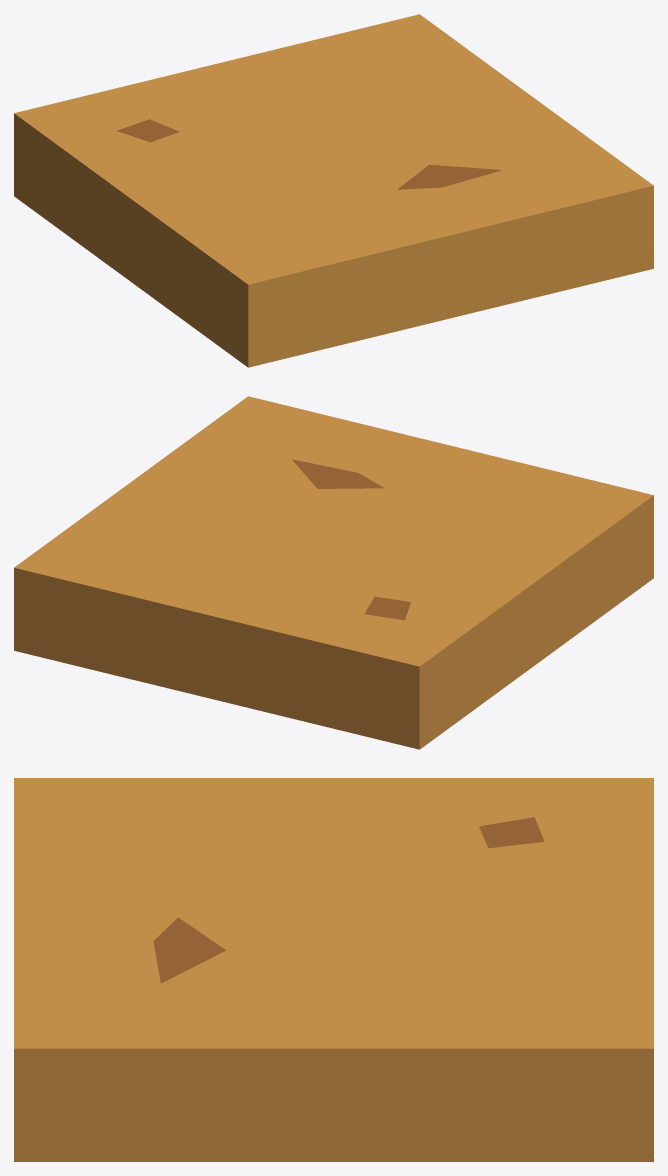
File: Ground_4_2.glb
3 renders of one model, top to bottom at view 1: azimuth 30°, elevation 25°; view 2: azimuth 150°, elevation 25°; view 3: azimuth 270°, elevation 25°, orthographic. The views are drawn at different scales.
Visible parts, largest first — view 1: Ground_4_2; view 2: Ground_4_2; view 3: Ground_4_2.
Boxes of the visible parts, x1,y1,x2,y2 form: Ground_4_2: [14, 14, 653, 367]; Ground_4_2: [14, 396, 653, 749]; Ground_4_2: [14, 778, 653, 1161].
Size of the model in its own units: 2 by 0.3912 by 2.
1 material, 1 textured.
